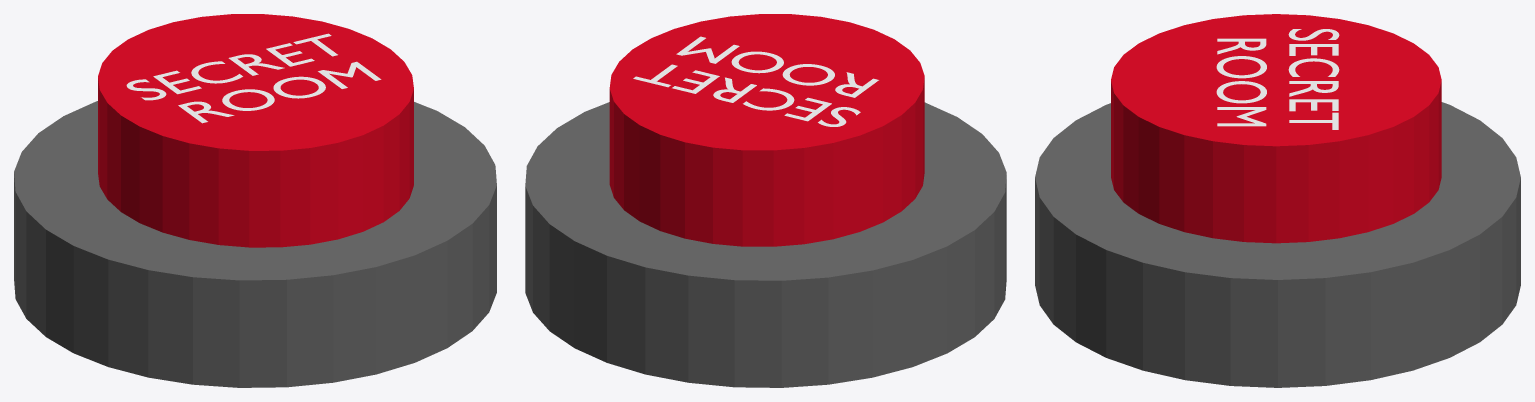
Rendered from Buttonfalse.fbx.
The picture shows the model from 3 angles, left to right: view 1: azimuth 30°, elevation 25°; view 2: azimuth 150°, elevation 25°; view 3: azimuth 270°, elevation 25°; orthographic projection.
Parts seen in each view (by area): view 1: SecretRoom button; view 2: SecretRoom button; view 3: SecretRoom button.
Boxes of the visible parts, <box> form: SecretRoom button: <box>14,14,496,387</box>; SecretRoom button: <box>525,14,1006,387</box>; SecretRoom button: <box>1035,14,1520,387</box>.
Size of the model in its own units: 73.21 by 34.22 by 73.21.
